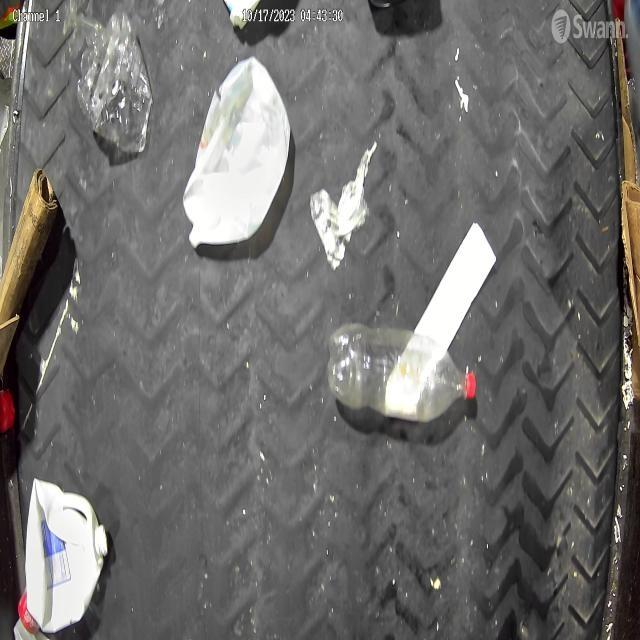milk_jug: (183, 55, 292, 252), (23, 473, 110, 635)
plastic_bottle: (326, 324, 477, 422)
